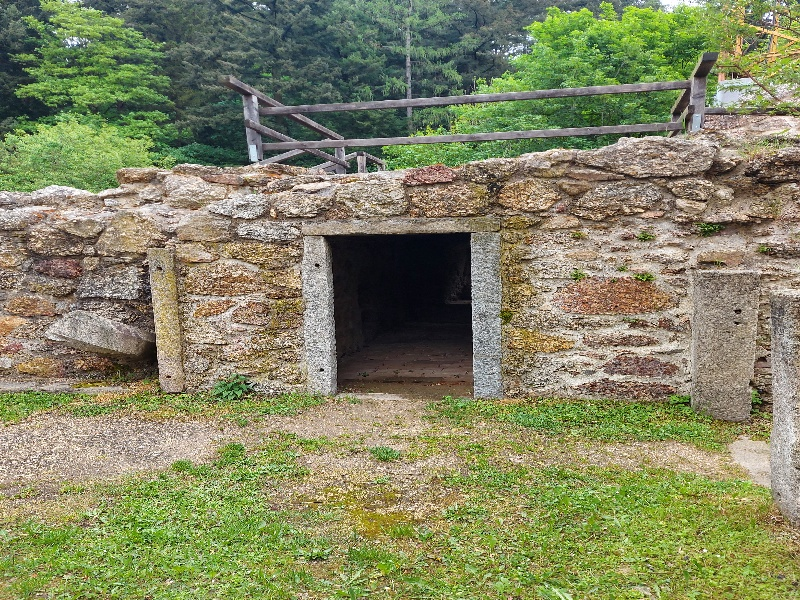door2: (292, 210, 530, 413)
